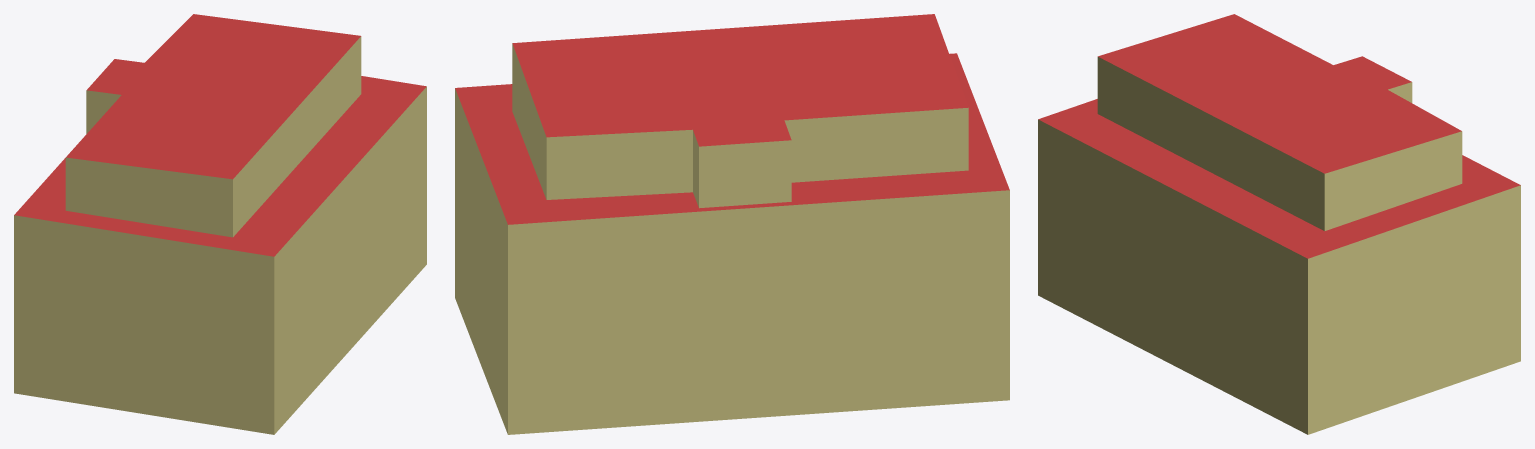
3 views of the same model, side by side, from view 1: azimuth 30°, elevation 25°; view 2: azimuth 150°, elevation 25°; view 3: azimuth 270°, elevation 25° (orthographic). The views are drawn at different scales.
Size of the model in its own units: 24.81 by 23.76 by 12.68.
